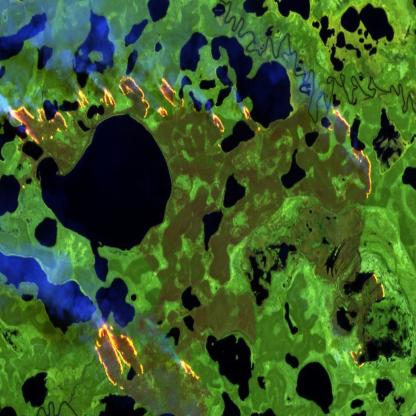fire: (0, 71, 374, 206), (89, 314, 212, 402), (366, 262, 394, 310), (345, 338, 375, 380)
